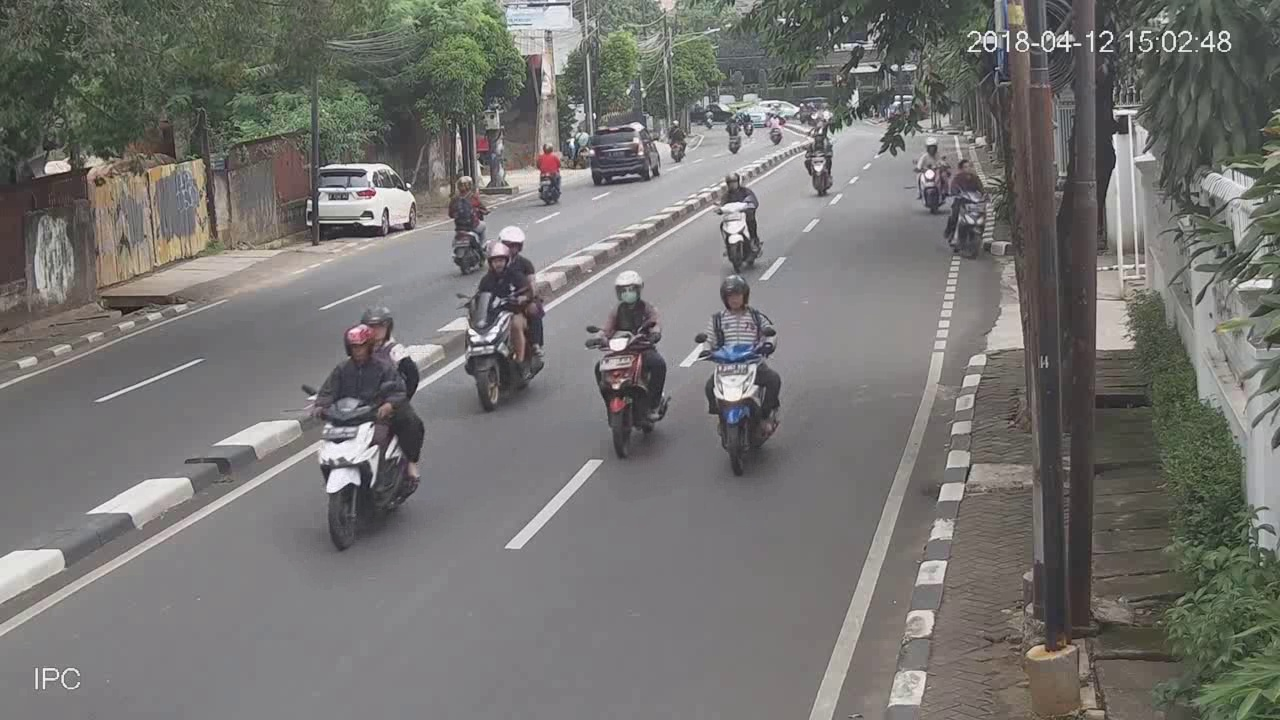car: (304, 161, 419, 237), (590, 121, 661, 186)
motorcycle: (301, 303, 425, 553), (695, 273, 781, 476), (456, 223, 548, 411), (588, 268, 670, 460), (712, 172, 767, 271), (447, 171, 490, 275), (945, 158, 989, 259), (914, 135, 948, 216), (800, 127, 838, 197), (533, 139, 563, 204)
